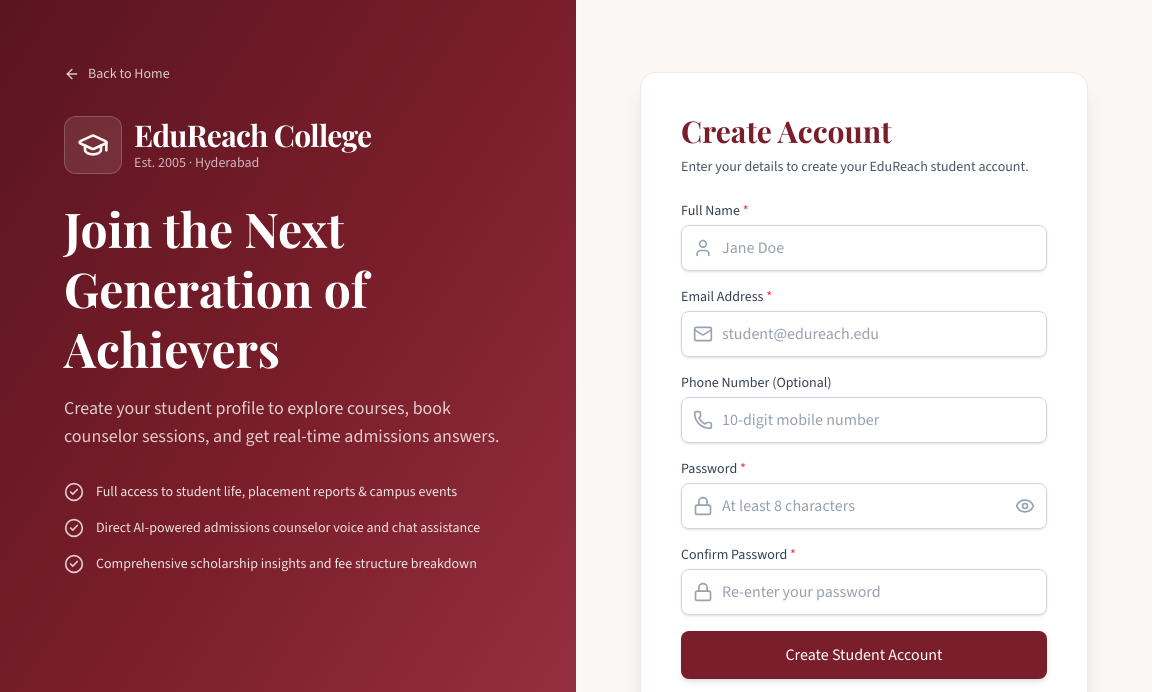
Test case: SignupPage › shows validation errors when submitting an empty form
What coordinates should you click on to do the following:
click the button "Create Student Account"
I would click on:
 (864, 655)
Its box is 681,631 -> 1047,679.
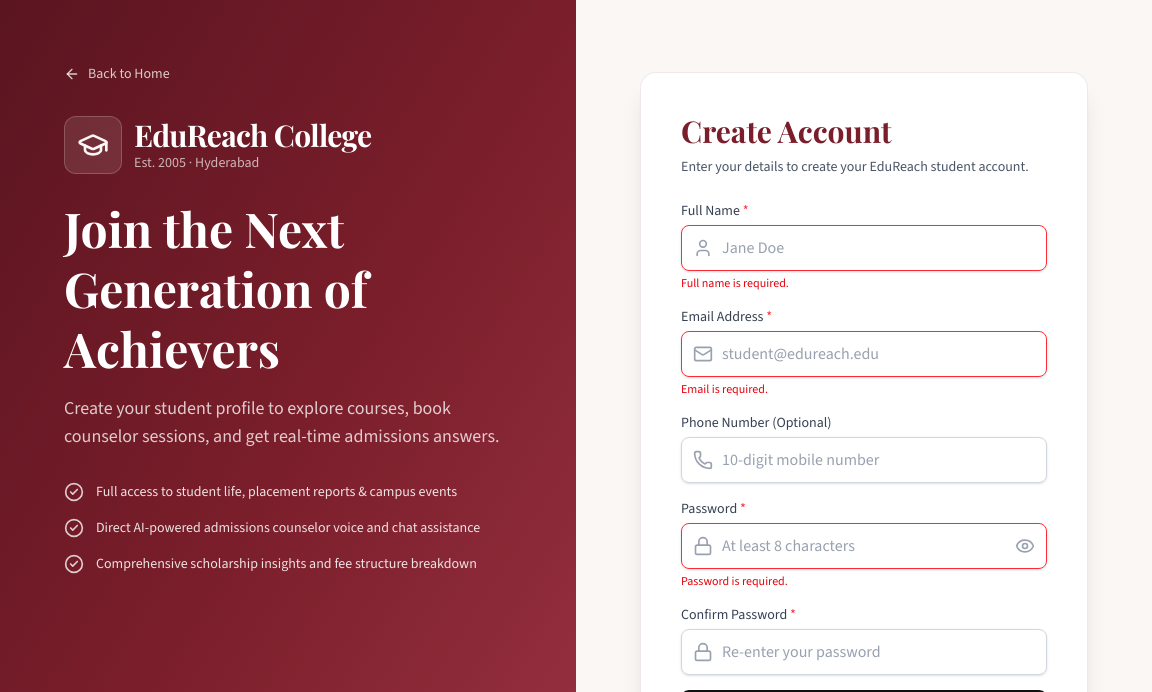
Result: the text "Full name is required." is shown at 681,275 -> 789,291
Result: the text "Email is required." is shown at 681,381 -> 768,397
Result: the text "Password is required." is shown at 681,573 -> 788,589
